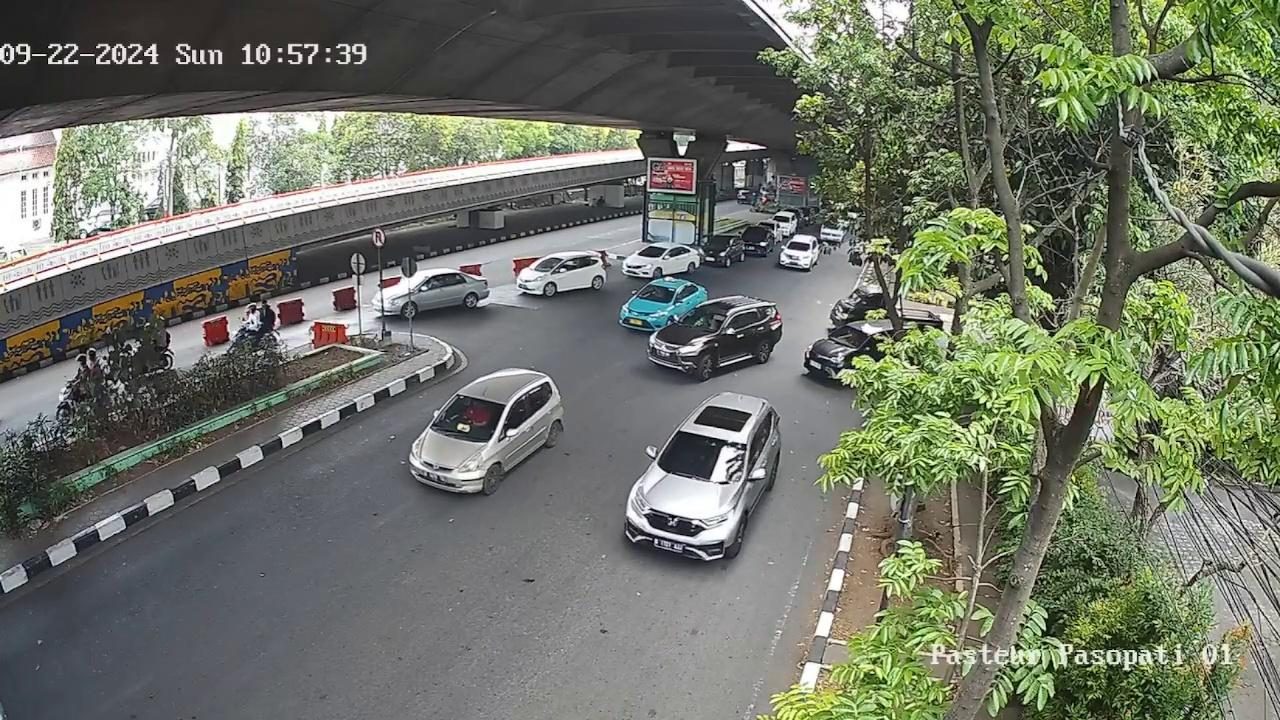tidak-pakai: (462, 402, 489, 428)
windshield: (662, 433, 746, 483), (437, 397, 502, 437), (682, 308, 727, 332), (636, 284, 675, 302)
